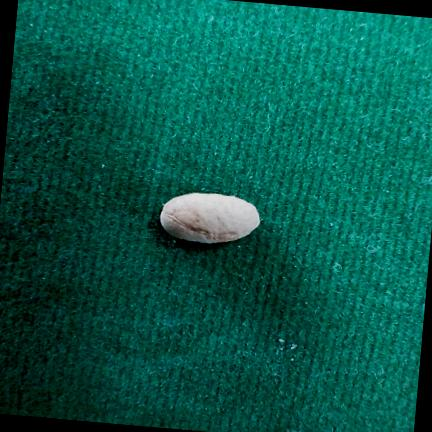shell: (160, 193, 259, 244)
